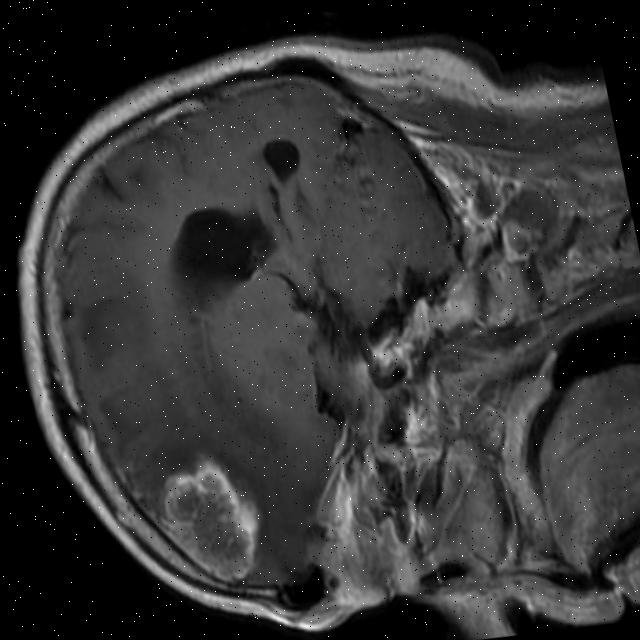Meningioma: (147, 443, 272, 596)
